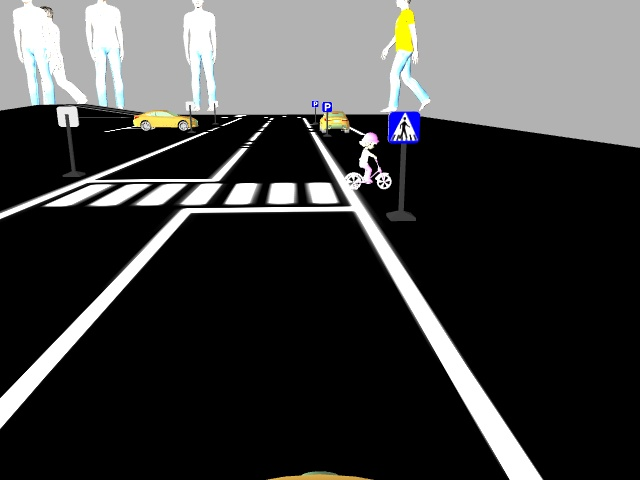Crosswalk: (389, 110, 419, 143)
Parking: (321, 101, 331, 111)
Pedestrian: (343, 129, 391, 189)
